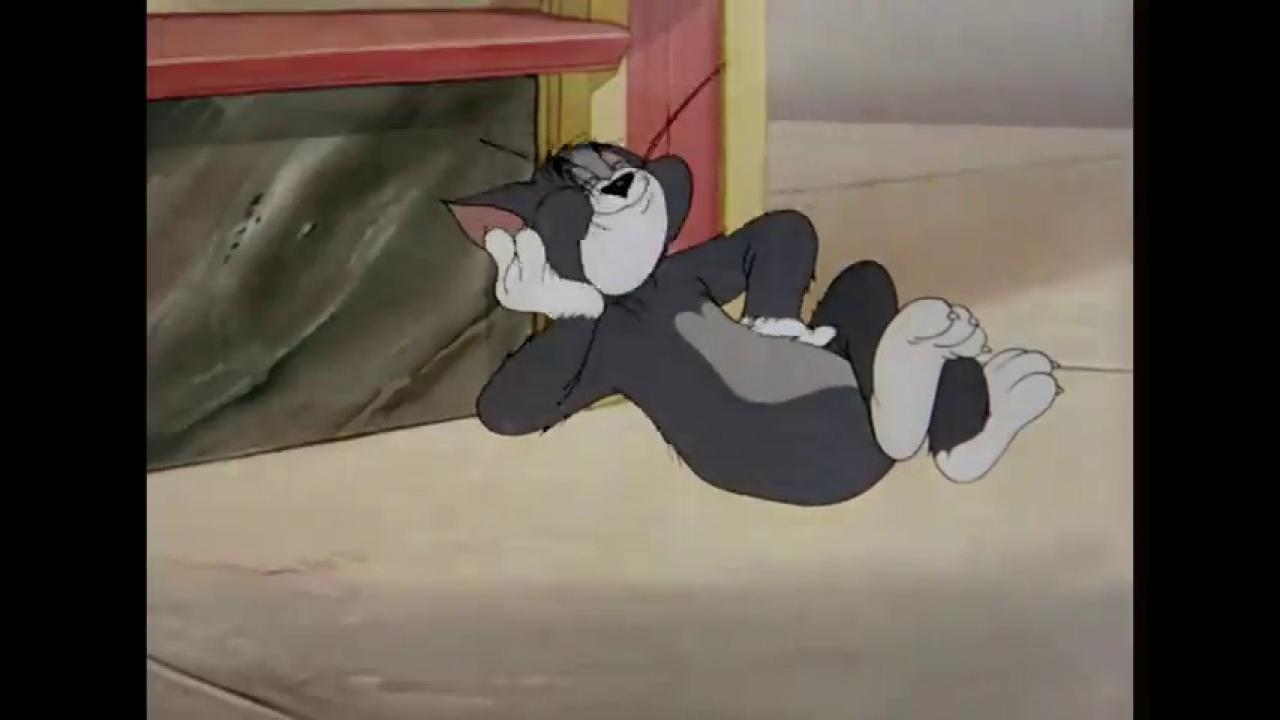Tom: (437, 137, 1067, 508)
